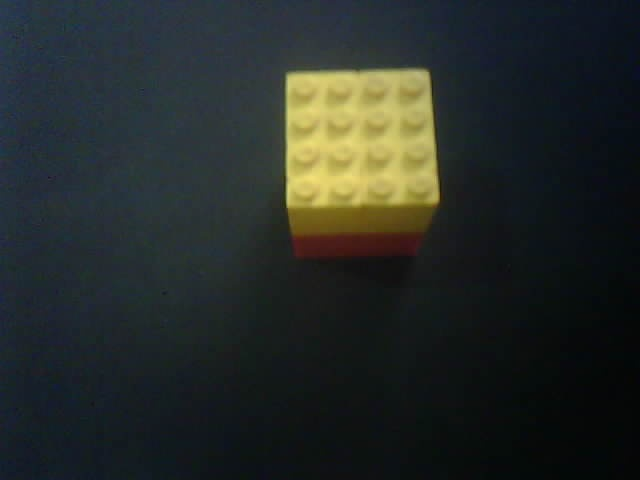lego: (282, 66, 441, 262)
